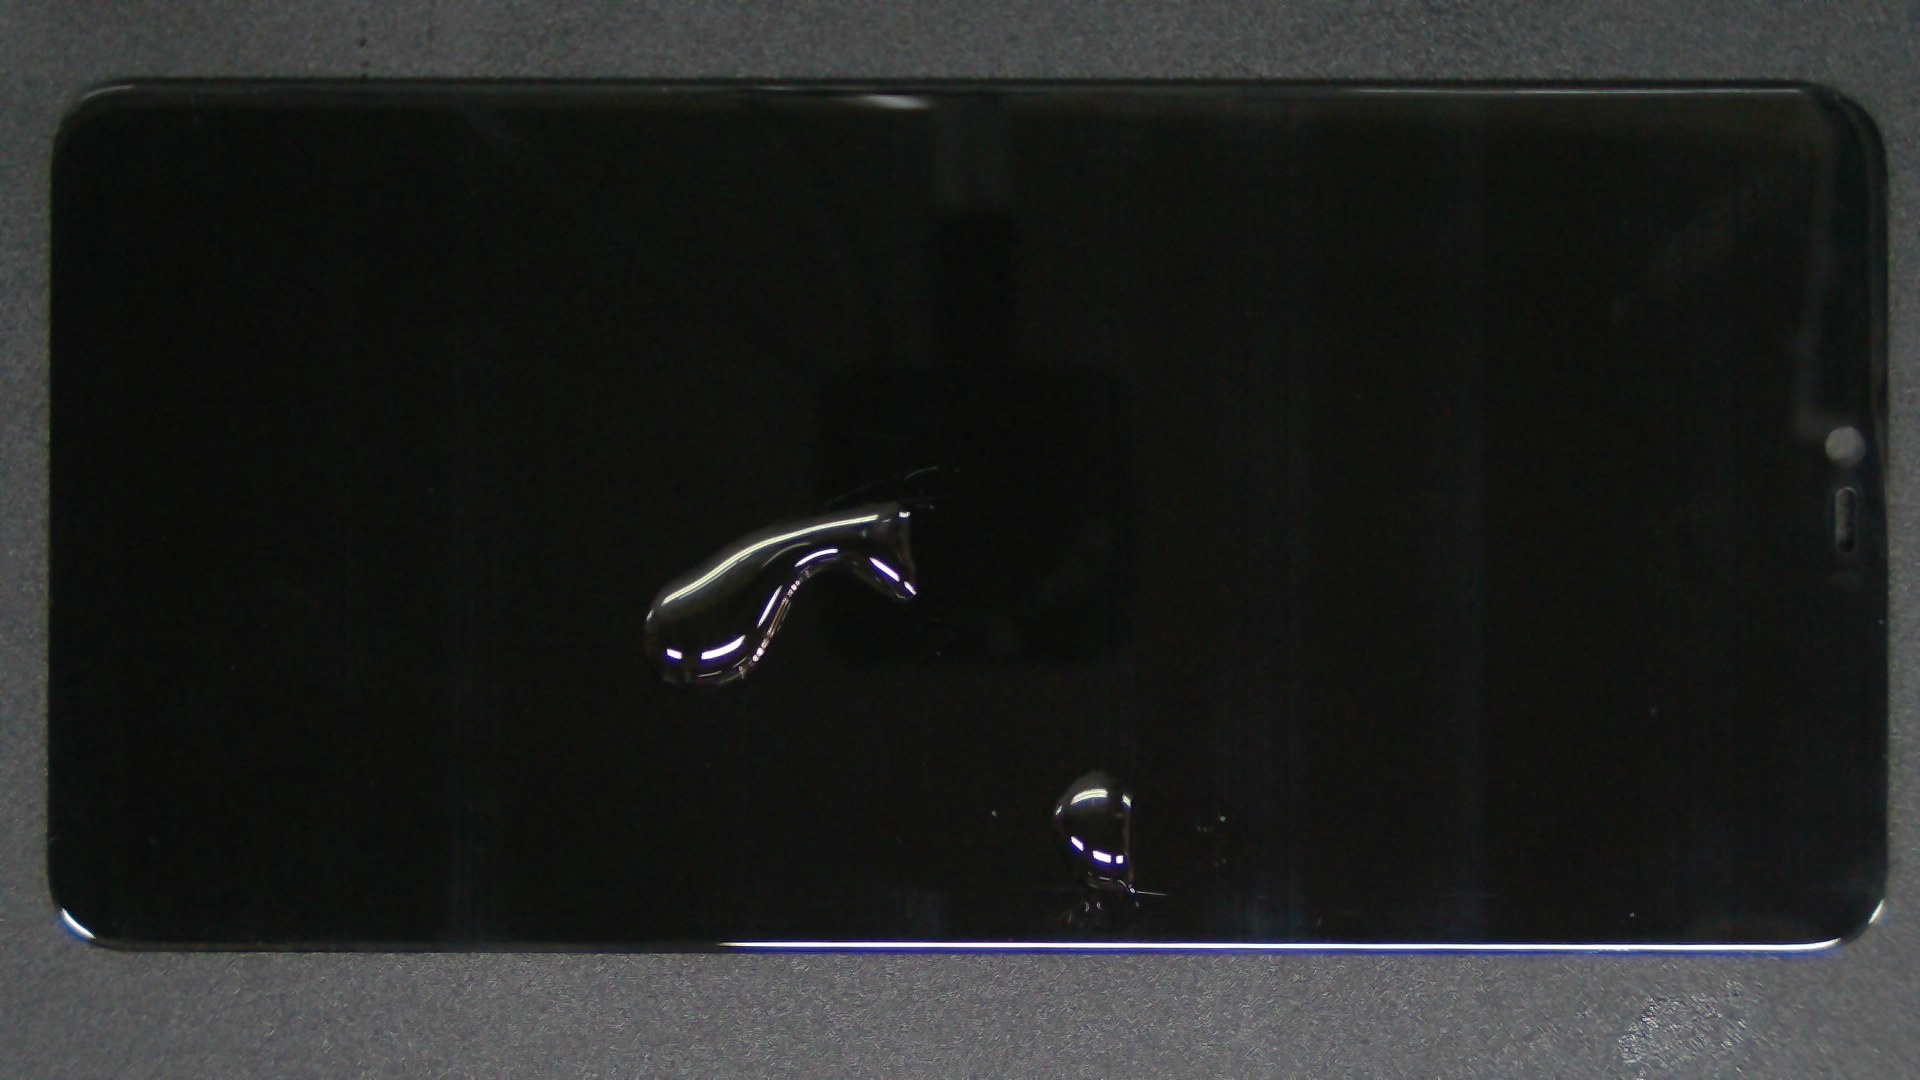oil: (551, 384, 1651, 1080), (454, 249, 1357, 750)
